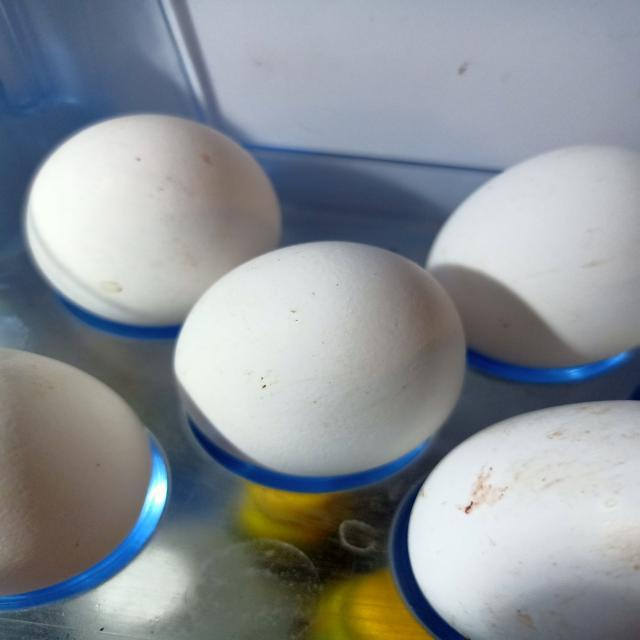Egg: (172, 240, 469, 498), (19, 86, 284, 349), (388, 400, 640, 640), (424, 143, 640, 371)
